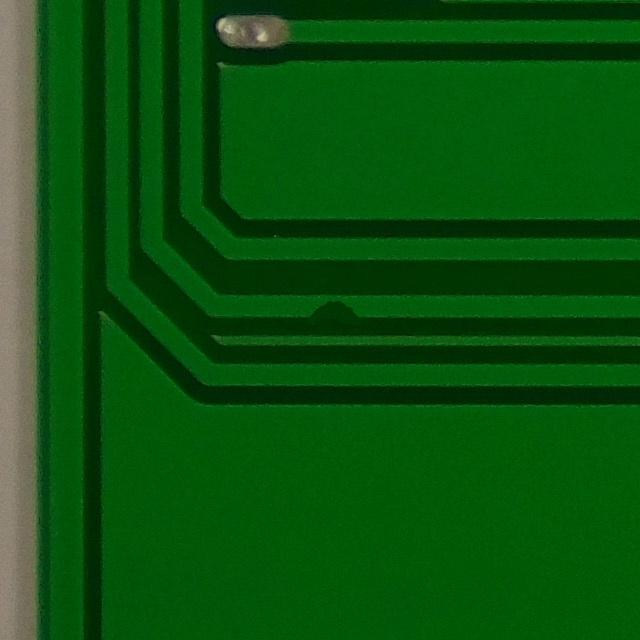mouse_bite: (295, 277, 370, 340)
